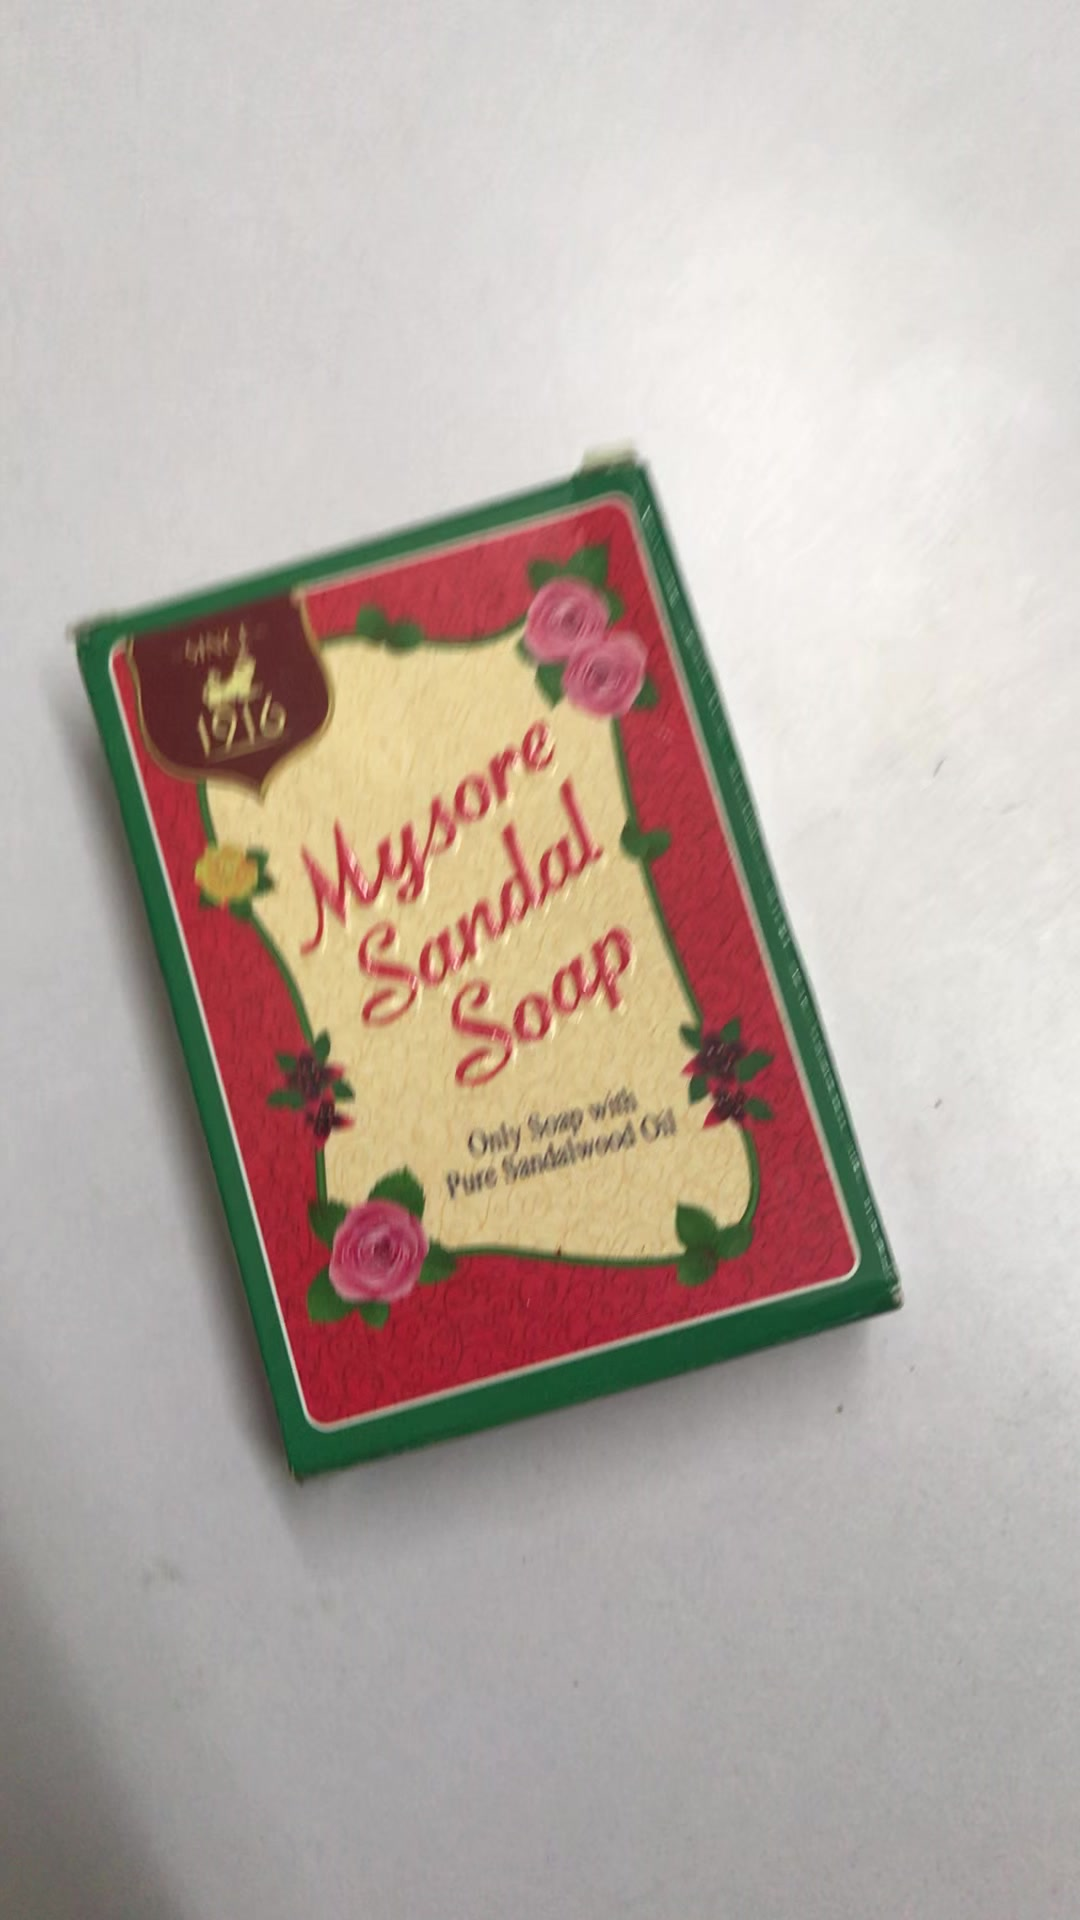mysore sandal soap: (86, 473, 907, 1486)
